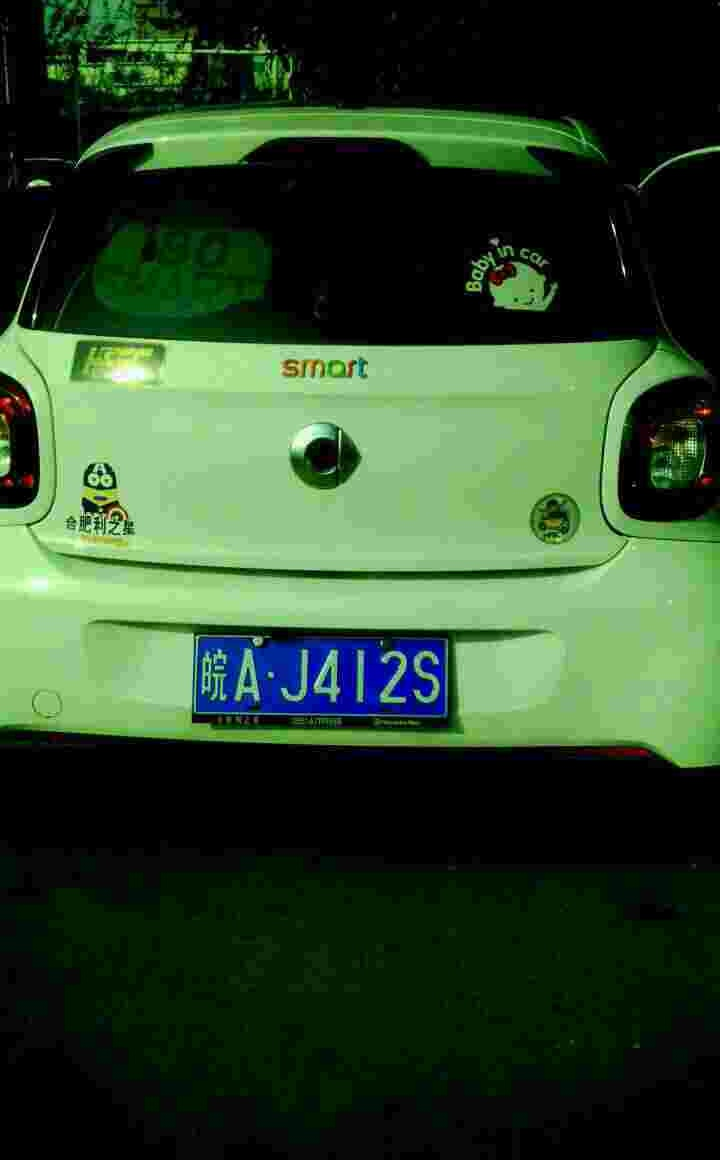license_plate: (185, 636, 447, 715)
